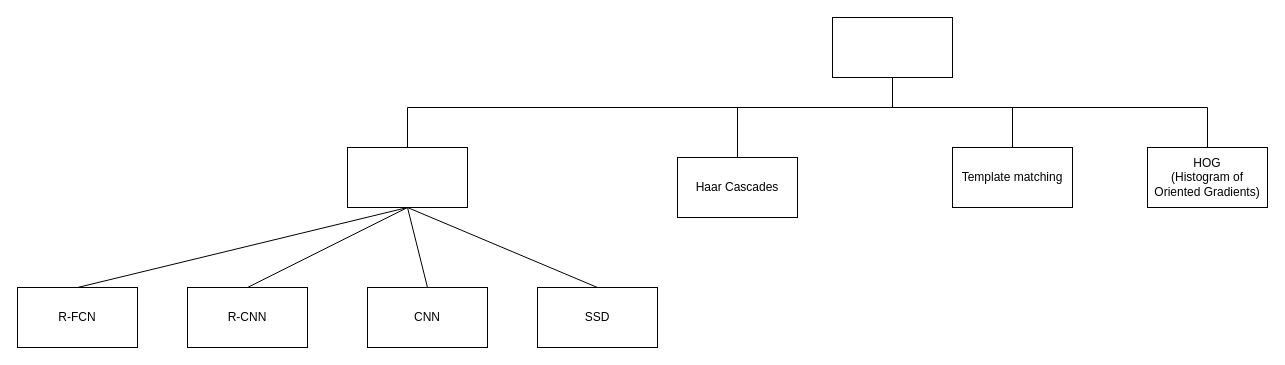
Some shapes in this 1285 by 365 pixel diagram are drawn without their labels. Each missing label, with the centre of its shape:
"Deep Neural Networks" belongs at [407,177].
"Object Detection Methods" belongs at [892,47].
